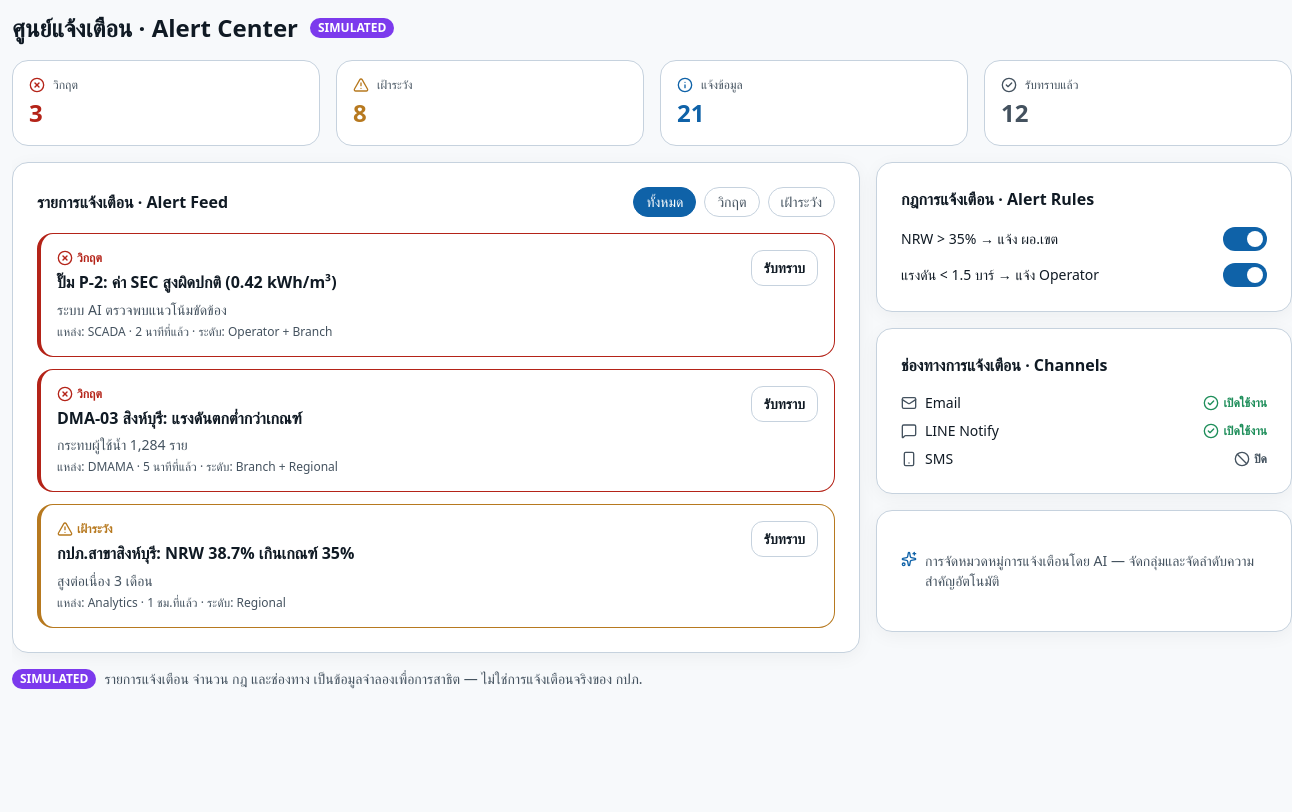
AlertCenterScreen › shows an empty state when a filter matches no active alert
The image size is (1292, 812).
// Acknowledge the sole warning, then filter to warnings.
Click the 3rd button "รับทราบ". click: (784, 539)
box: [751, 521, 818, 557]
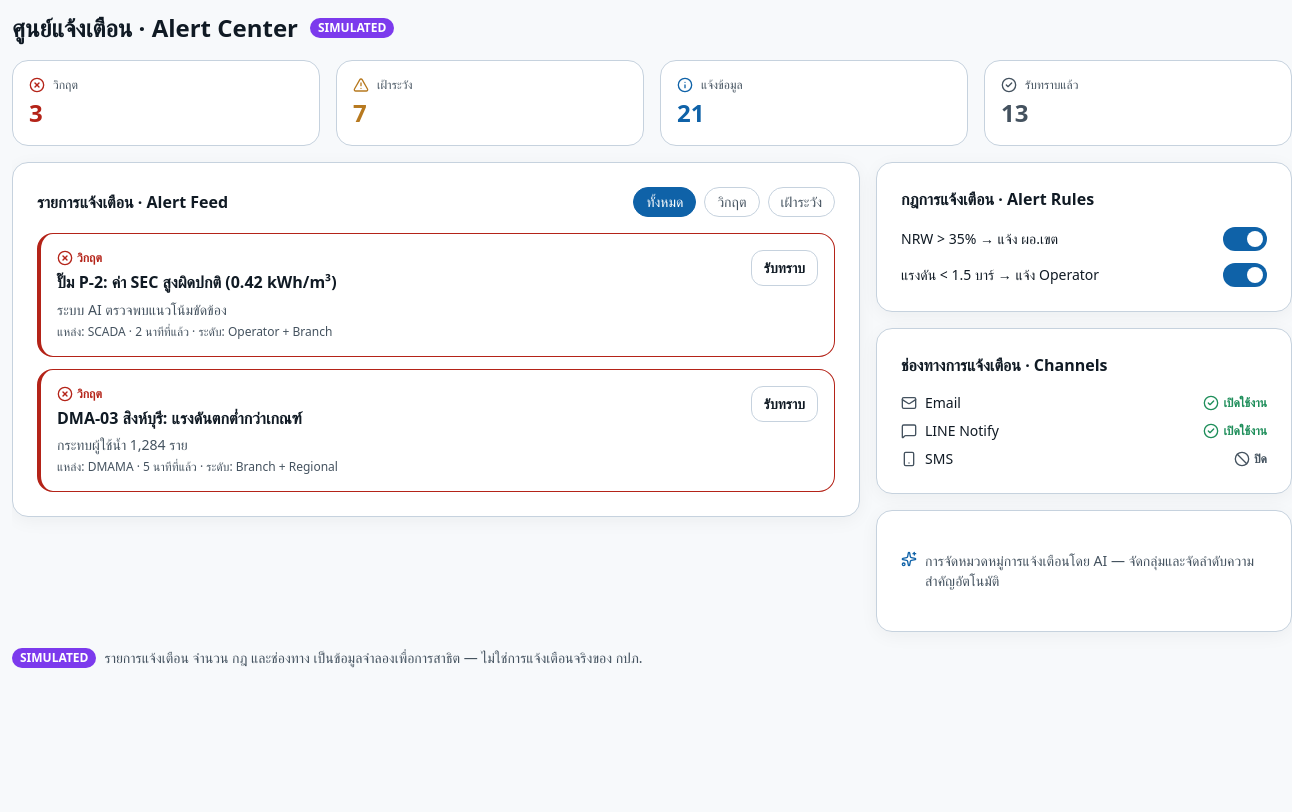
Click the radio button labelled "เฝ้าระวัง". click: (801, 202)
box: [768, 187, 835, 217]
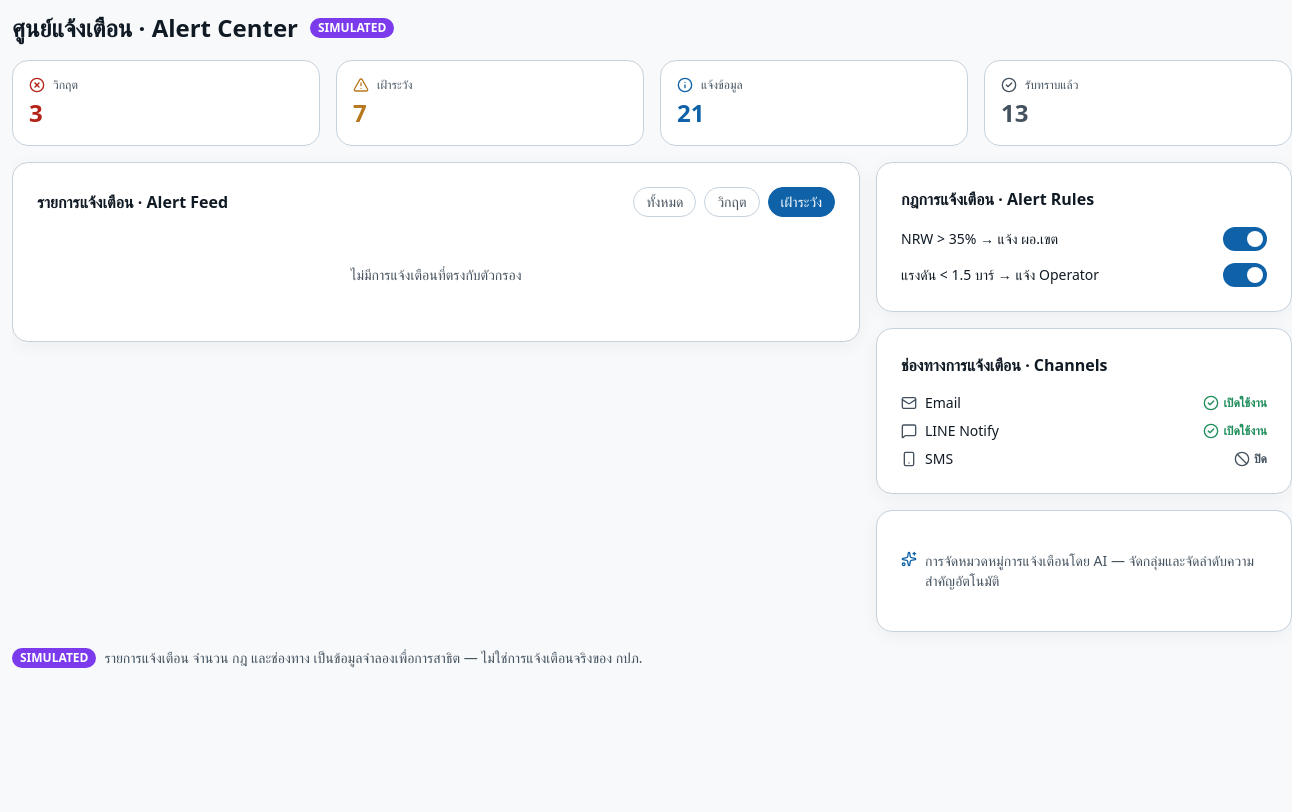
Result: the text "ไม่มีการแจ้งเตือนที่ตรงกับตัวกรอง" is shown at [350, 265, 522, 284]
